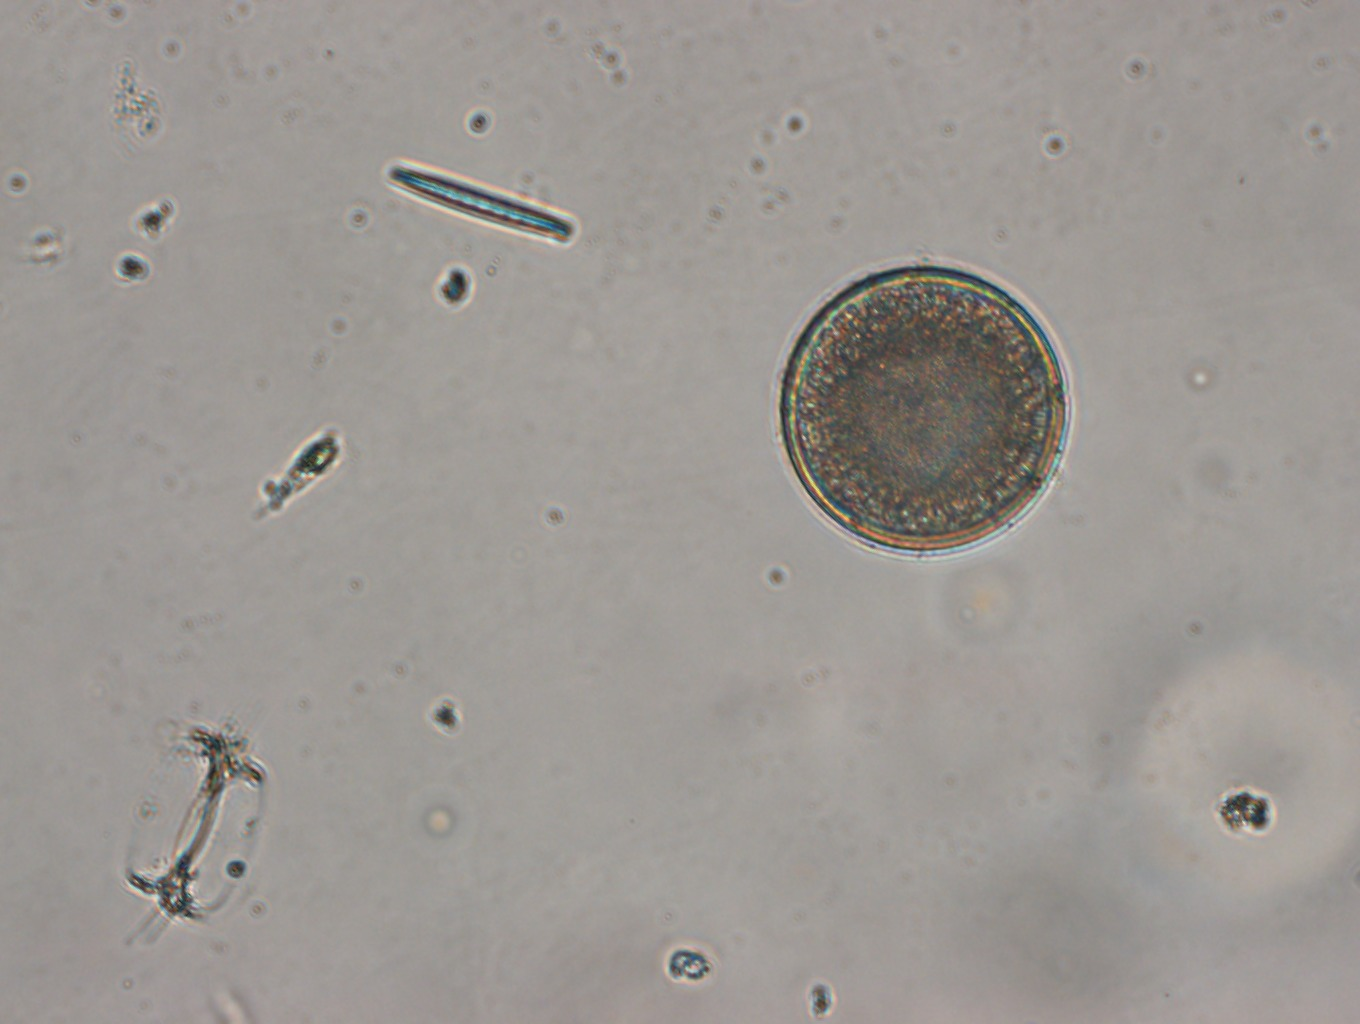chaetoceros: (116, 699, 268, 958)
coscinodiscus: (772, 259, 1078, 557)
thalassionema nitzschioides: (380, 161, 583, 250)
